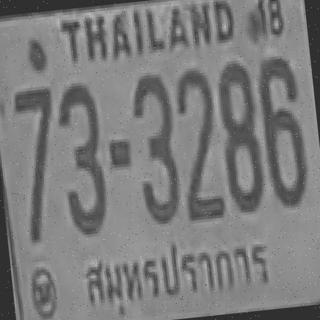N02: (172, 66, 222, 202)
N03: (54, 81, 108, 233), (128, 71, 181, 223)
N06: (254, 53, 308, 208)
N07: (11, 85, 62, 216), (11, 86, 59, 191), (11, 86, 58, 178)
N08: (214, 59, 265, 211)
P57: (78, 225, 278, 320)
